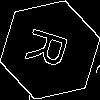R: (25, 25, 78, 73)
